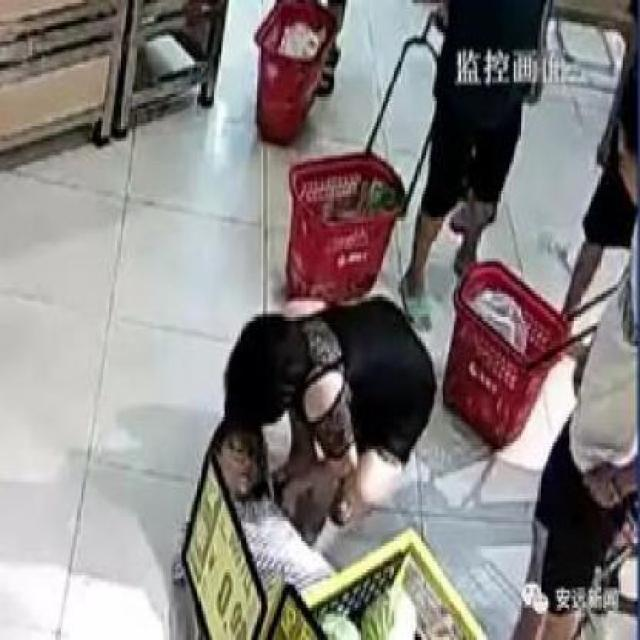fall: (167, 397, 468, 634)
